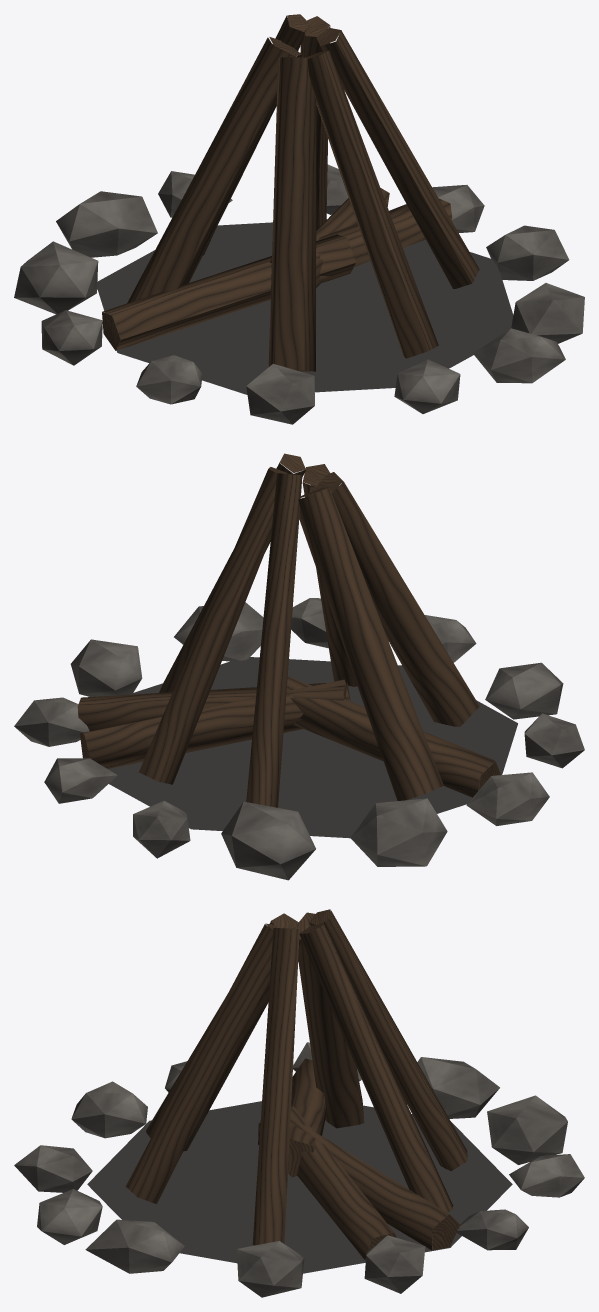
File: campfire_L0.glb
3 renders of one model, top to bottom at view 1: azimuth 30°, elevation 25°; view 2: azimuth 150°, elevation 25°; view 3: azimuth 270°, elevation 25°, orthographic. The views are drawn at different scales.
Visible parts, largest first — view 1: logs:bark, stones:stone, ash; view 2: logs:bark, stones:stone, ash; view 3: logs:bark, stones:stone, ash.
Part boxes in pixels (<box>): logs:bark: <box>102,14,479,371</box>; stones:stone: <box>14,164,584,424</box>; ash: <box>97,219,513,394</box>; logs:bark: <box>77,453,500,807</box>; stones:stone: <box>14,598,584,880</box>; ash: <box>108,657,517,838</box>; logs:bark: <box>125,909,467,1260</box>; stones:stone: <box>14,1042,584,1297</box>; ash: <box>87,1101,512,1273</box>.
Size of the model in its own units: 1.28 by 0.7459 by 1.34.
Materials: 3 (2 with a texture image).
